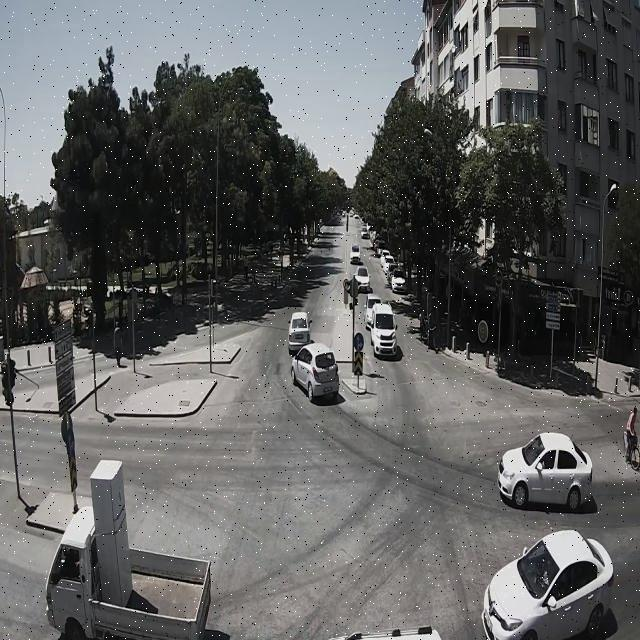Car: (483, 530, 615, 638), (498, 428, 594, 514), (291, 342, 340, 400), (369, 302, 398, 356), (288, 310, 312, 352), (364, 295, 382, 328), (353, 265, 370, 291), (391, 268, 407, 294), (380, 254, 395, 274), (350, 245, 361, 263), (361, 229, 370, 239)
Truck: (48, 454, 214, 640)
